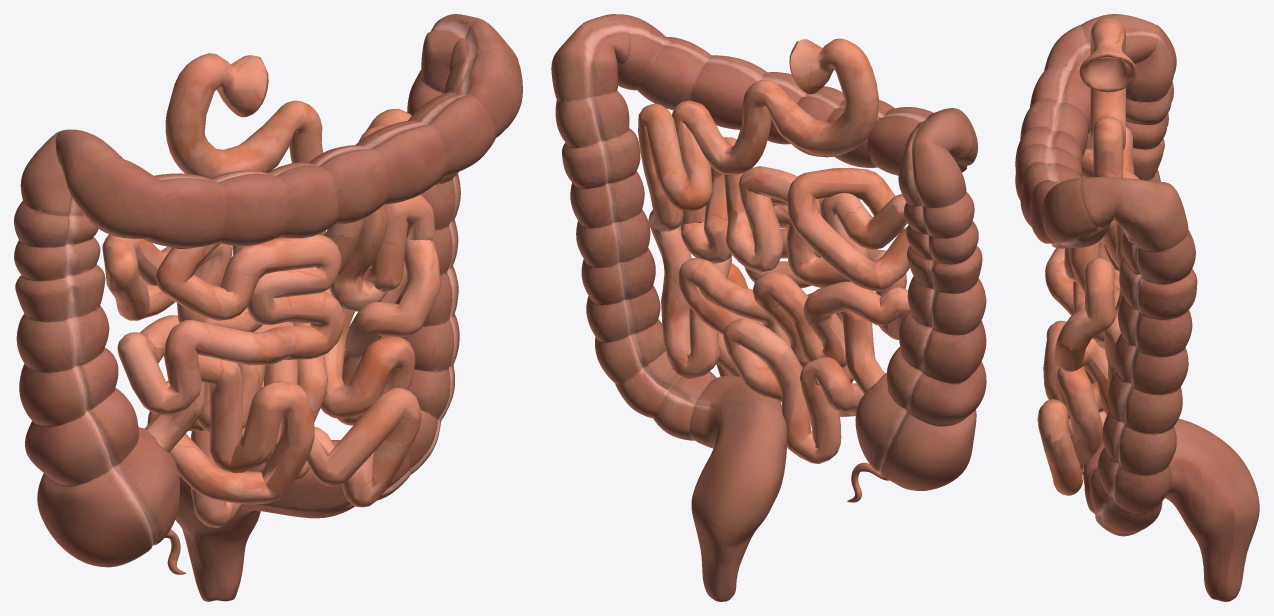
File: small-intestine.glb
The picture shows the model from 3 angles, left to right: view 1: azimuth 30°, elevation 25°; view 2: azimuth 150°, elevation 25°; view 3: azimuth 270°, elevation 25°; orthographic projection. The views are drawn at different scales.
Visible parts, largest first — view 1: Tjocktarm_Default Material_0, Tunntarm_Default Material_0; view 2: Tjocktarm_Default Material_0, Tunntarm_Default Material_0; view 3: Tjocktarm_Default Material_0, Tunntarm_Default Material_0.
Part boxes in pixels (<box>): Tjocktarm_Default Material_0: <box>14,14,522,601</box>; Tunntarm_Default Material_0: <box>102,53,440,527</box>; Tjocktarm_Default Material_0: <box>551,14,986,601</box>; Tunntarm_Default Material_0: <box>638,38,910,463</box>; Tjocktarm_Default Material_0: <box>1015,14,1259,601</box>; Tunntarm_Default Material_0: <box>1037,17,1139,495</box>.
Bounding box in the file's own units: 0.4925 × 0.6 × 0.243.
Materials: 2 (2 with a texture image).
